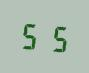five: (19, 17, 43, 52), (44, 20, 68, 55)
